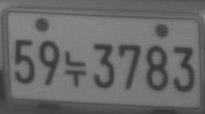3: (172, 45, 195, 92), (92, 43, 114, 88)
5: (12, 39, 36, 84)
7: (118, 43, 141, 90)
8: (145, 45, 169, 91)
9: (39, 40, 60, 86)
누: (63, 49, 87, 88)
